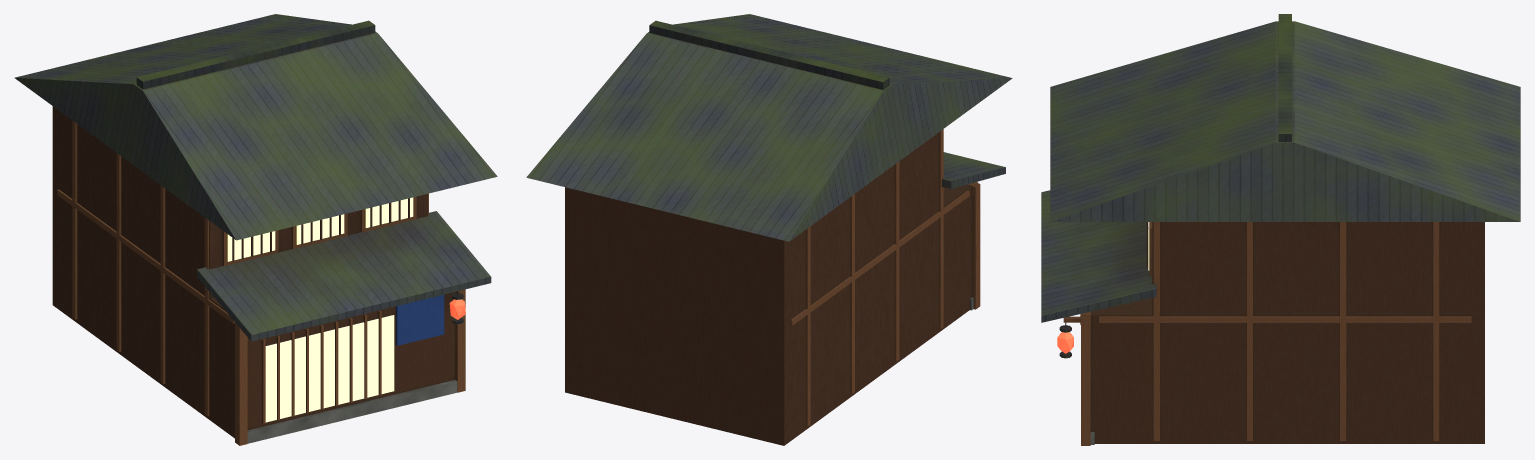
File: machiya_1_tex.glb
3 views of the same model, side by side, from view 1: azimuth 30°, elevation 25°; view 2: azimuth 150°, elevation 25°; view 3: azimuth 270°, elevation 25° (orthographic). The views are drawn at different scales.
Visible parts, largest first — view 1: machiya_1; view 2: machiya_1; view 3: machiya_1.
Boxes of the visible parts, bbox=[...] form: machiya_1: bbox=[14, 14, 497, 445]; machiya_1: bbox=[526, 14, 1012, 445]; machiya_1: bbox=[1041, 14, 1520, 445].
Bounding box in the file's own units: 7.2 × 7.8 × 10.8.
Materials: 8 (6 with a texture image).
